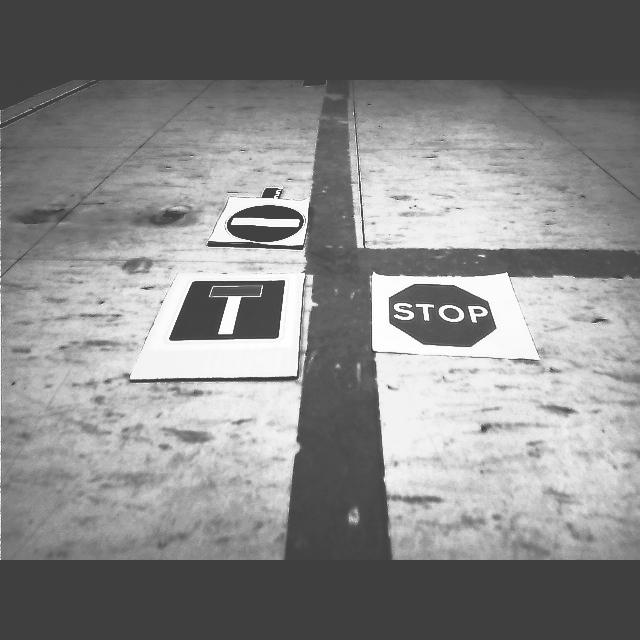DEAD END: (168, 281, 285, 341)
NO ENTRY: (226, 204, 304, 242)
STOP: (389, 283, 496, 347)
